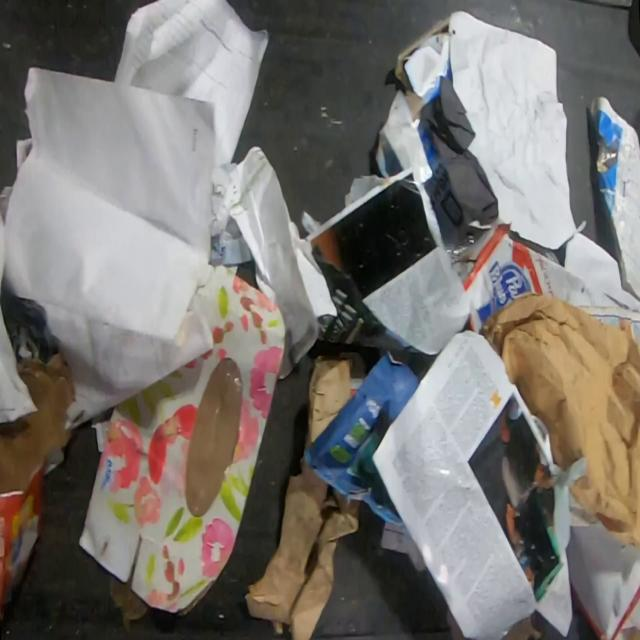cardboard: (77, 262, 286, 637), (243, 455, 362, 640), (298, 349, 420, 528), (374, 15, 452, 183), (0, 351, 76, 495), (304, 353, 352, 450)
